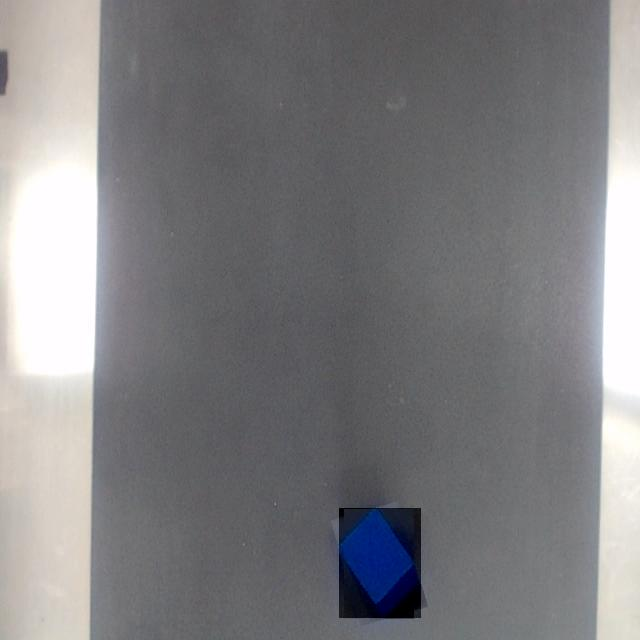Azul: (339, 508, 421, 618)
